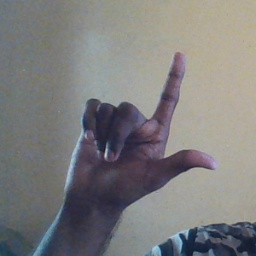L: (65, 48, 216, 202)
